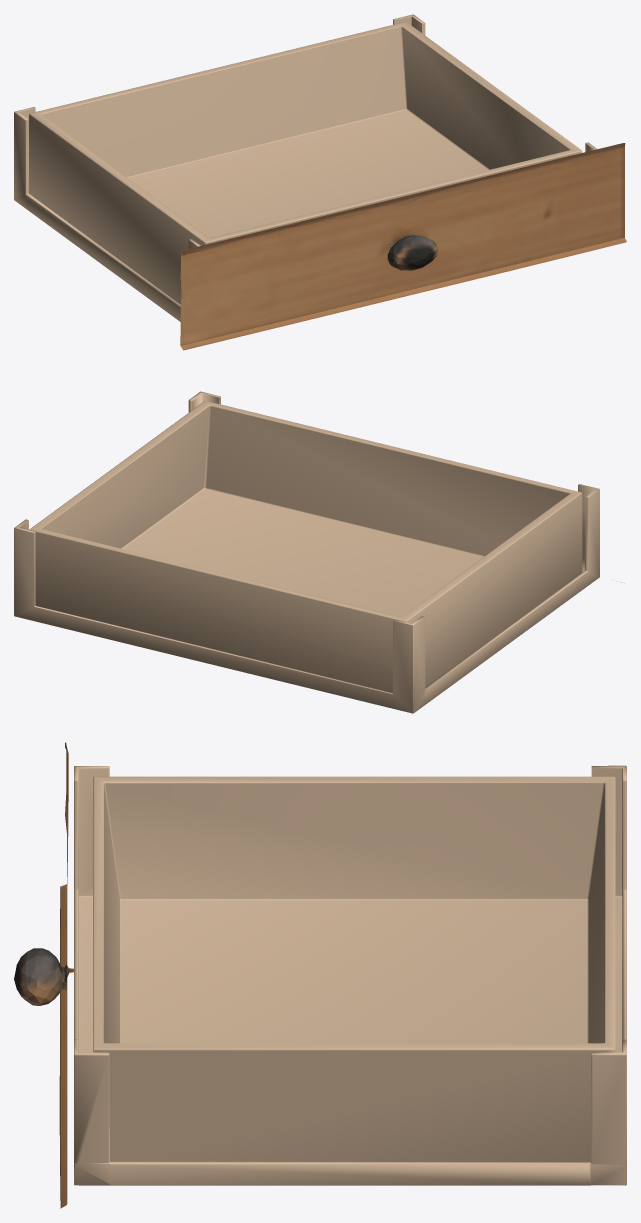
Rendered from drawer_top_left.glb.
3 views of the same model, one above another, from view 1: azimuth 30°, elevation 25°; view 2: azimuth 150°, elevation 25°; view 3: azimuth 270°, elevation 25° (orthographic). The views are drawn at different scales.
Parts seen in each view (by area): view 1: prefab_drawer_body_1, source_front_cap_0; view 2: prefab_drawer_body_1; view 3: prefab_drawer_body_1, source_front_cap_0.
Boxes of the visible parts, x1=… form: prefab_drawer_body_1: x1=14, y1=14, x2=597, y2=321; source_front_cap_0: x1=180, y1=143, x2=626, y2=350; prefab_drawer_body_1: x1=14, y1=391, x2=599, y2=713; prefab_drawer_body_1: x1=74, y1=765, x2=626, y2=1185; source_front_cap_0: x1=14, y1=742, x2=73, y2=1208.
Size of the model in its own units: 0.3933 by 0.0833 by 0.3173.
Materials: 2 (1 with a texture image).
